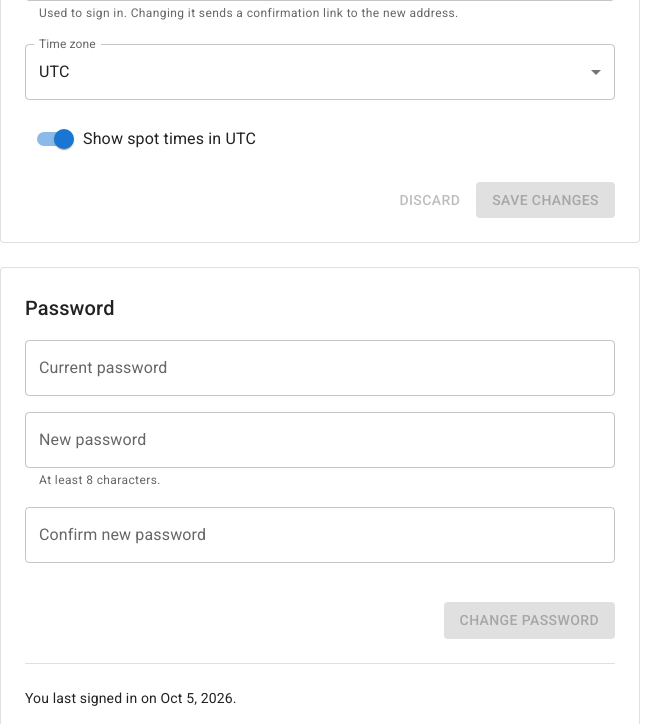
Test: ChangePassword › validates the new password
(page scrolled)
Type "oldpass1" into the password field labelled "Current password" at (320, 368), box [25,340,615,396]
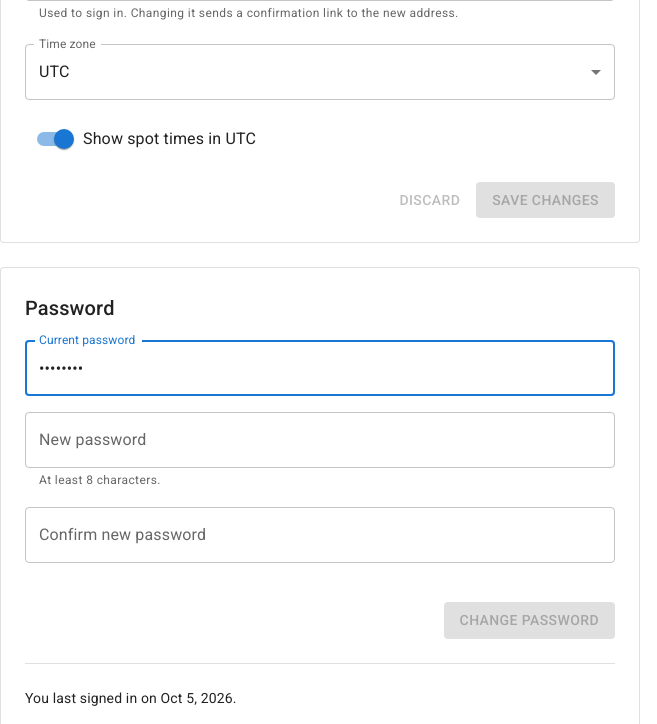
Type "short" into the password field labelled "New password" at (320, 440), box [25,412,615,468]
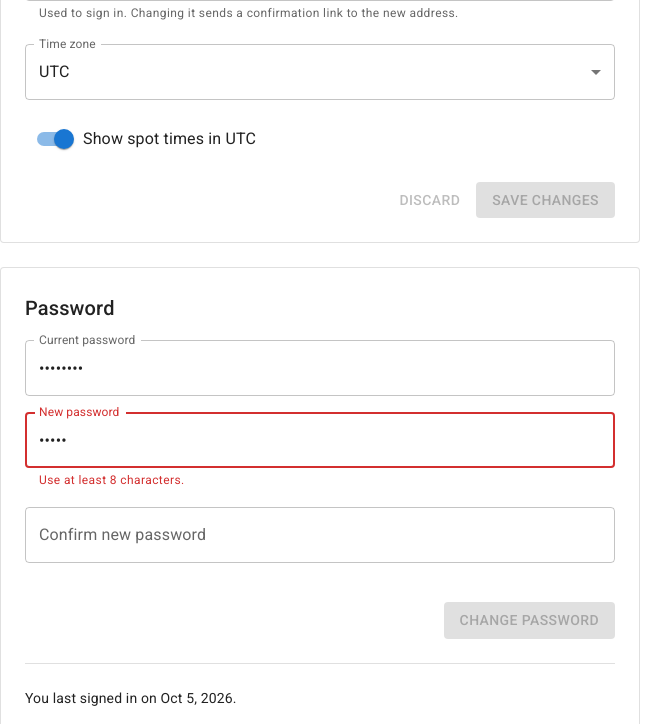
Type "other" into the password field labelled "Confirm new password" at (320, 535), box [25,507,615,563]
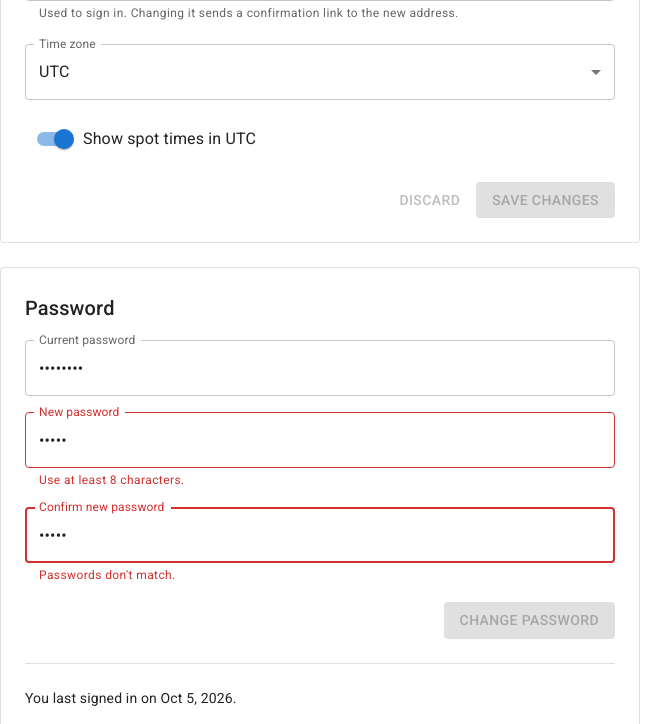
Check: the button "Change password" is disabled, box [444,602,615,638]
Check: the text "Use at least 8 characters." is shown, box [39,473,184,487]
Check: the text "Passwords don't match." is shown, box [39,568,176,582]
